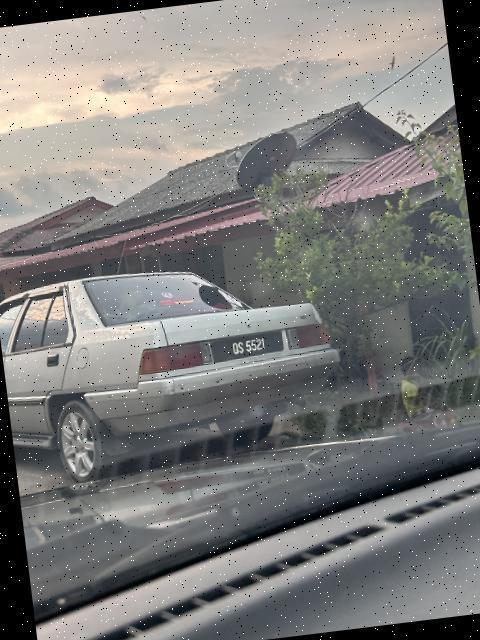License_Plate: (209, 331, 287, 365)
QS5521: (209, 331, 287, 365)
car: (1, 250, 366, 487)
